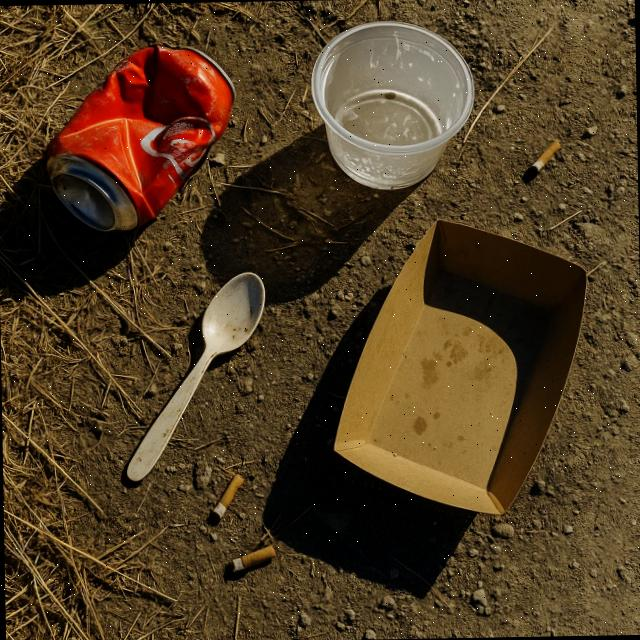aluminum: (50, 42, 246, 230)
paper: (333, 220, 592, 519)
plastic: (299, 18, 482, 195)
